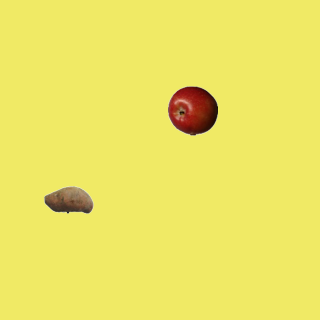Apple Braeburn: (167, 85, 217, 135)
Potato Sweet: (43, 174, 93, 224)
